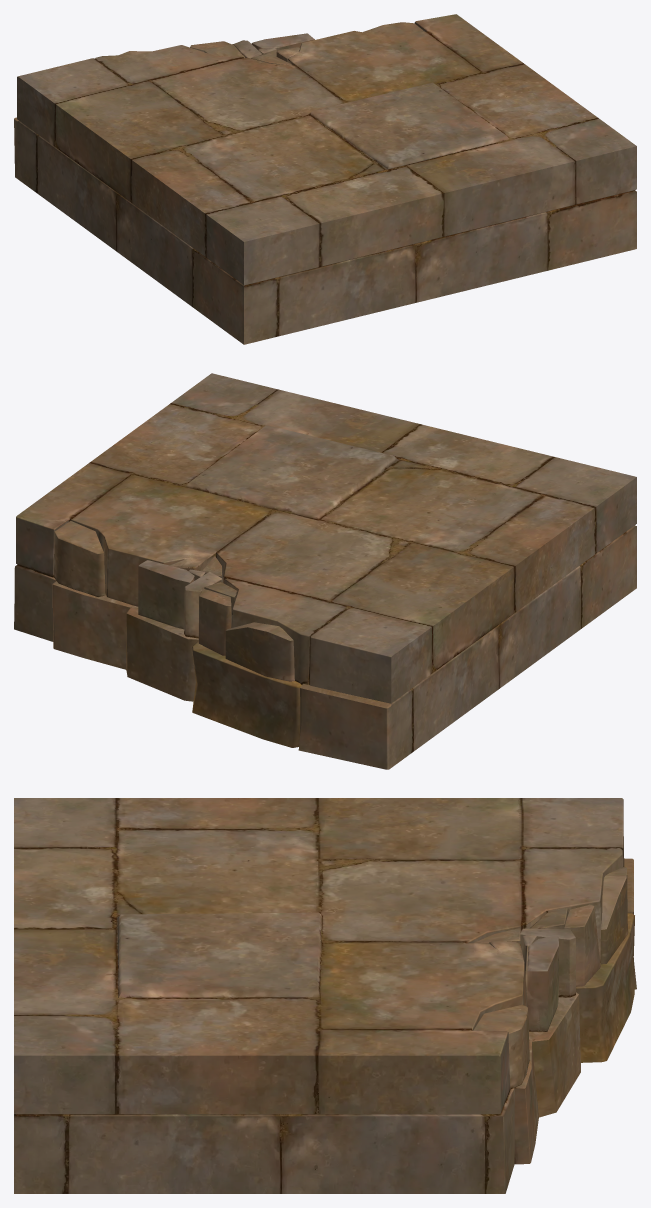
3 views of the same model, one above another, from view 1: azimuth 30°, elevation 25°; view 2: azimuth 150°, elevation 25°; view 3: azimuth 270°, elevation 25° (orthographic). The views are drawn at different scales.
Visible parts, largest first — view 1: SM_DK_4m_Floor_02_LOD0; view 2: SM_DK_4m_Floor_02_LOD0; view 3: SM_DK_4m_Floor_02_LOD0.
Boxes of the visible parts, bbox=[...] form: SM_DK_4m_Floor_02_LOD0: bbox=[14, 14, 636, 344]; SM_DK_4m_Floor_02_LOD0: bbox=[14, 373, 636, 769]; SM_DK_4m_Floor_02_LOD0: bbox=[14, 798, 636, 1193].
Size of the model in its own units: 4 by 1.04 by 4.09.
Materials: 1 (1 with a texture image).
